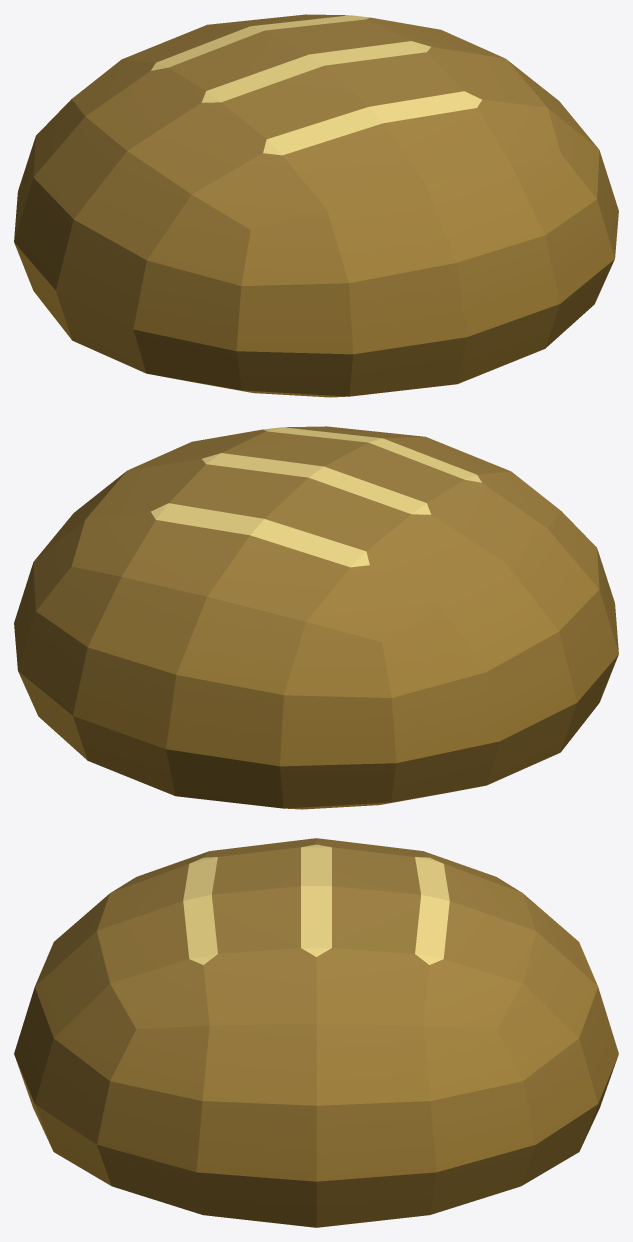
File: bread_2a.fbx
The picture shows the model from 3 angles, top to bottom: view 1: azimuth 30°, elevation 25°; view 2: azimuth 150°, elevation 25°; view 3: azimuth 270°, elevation 25°; orthographic projection.
Parts seen in each view (by area): view 1: bread_2a; view 2: bread_2a; view 3: bread_2a.
Part boxes in pixels (x1=…): bread_2a: x1=14, y1=14, x2=618, y2=397; bread_2a: x1=14, y1=426, x2=618, y2=809; bread_2a: x1=14, y1=838, x2=618, y2=1227.
Bounding box in the file's own units: 0.3494 × 0.1693 × 0.3494.
